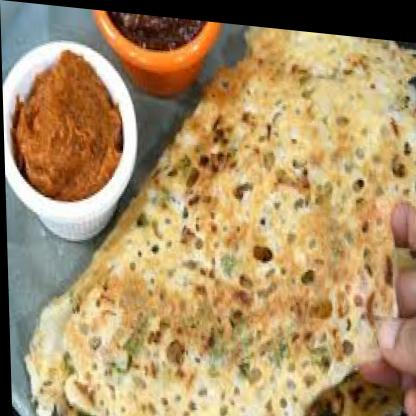dosa: (13, 1, 416, 416)
